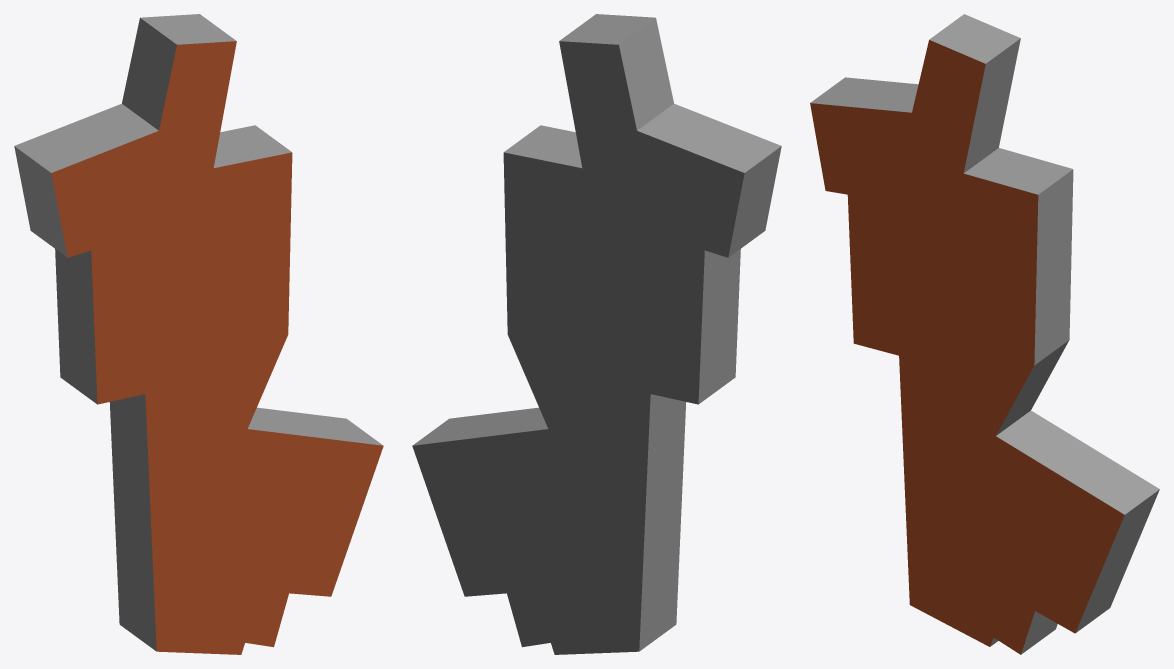
Rendered from construction_0691_assumed_A_Casa_h6m.obj.
3 renders of one model, left to right at view 1: azimuth 30°, elevation 25°; view 2: azimuth 150°, elevation 25°; view 3: azimuth 330°, elevation 25°, orthographic. The views are drawn at different scales.
Parts seen in each view (by area): view 1: construction_0691_assumed_A_Casa; view 2: construction_0691_assumed_A_Casa; view 3: construction_0691_assumed_A_Casa.
Part boxes in pixels (bbox=[...]): construction_0691_assumed_A_Casa: bbox=[14, 14, 383, 654]; construction_0691_assumed_A_Casa: bbox=[412, 14, 781, 654]; construction_0691_assumed_A_Casa: bbox=[810, 14, 1159, 654].
Size of the model in its own units: 31.04 by 55.86 by 6.
